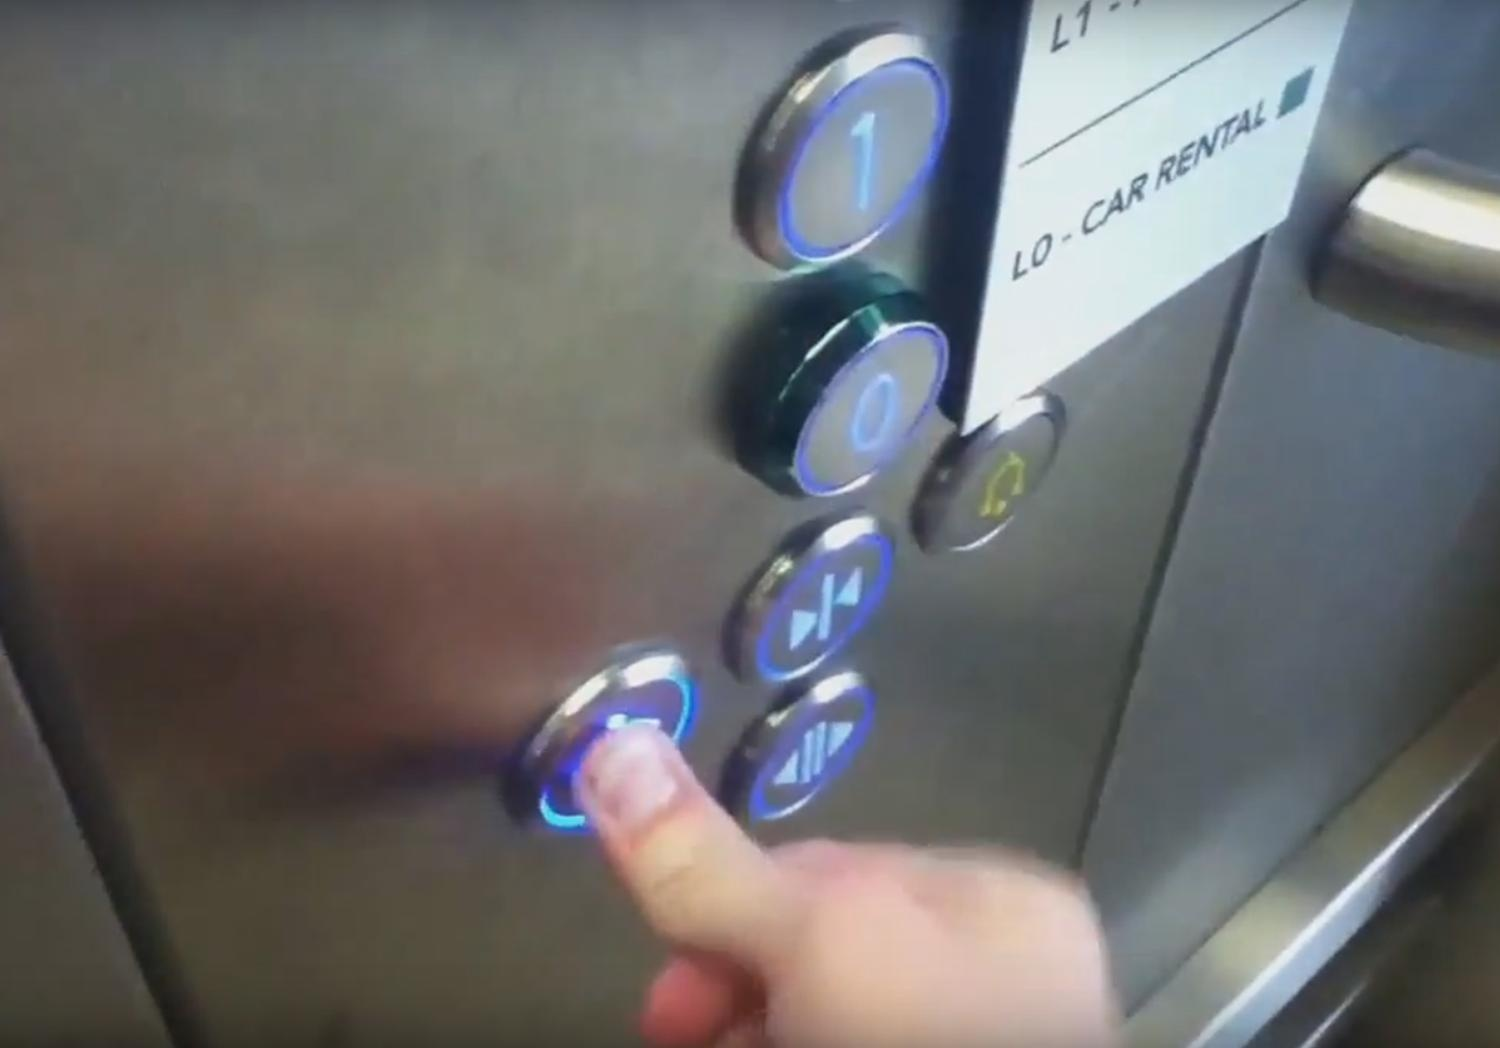0: (759, 278, 949, 496)
1: (728, 24, 949, 275)
alarm: (911, 385, 1067, 557)
close: (722, 502, 900, 683)
open: (709, 667, 878, 830)
